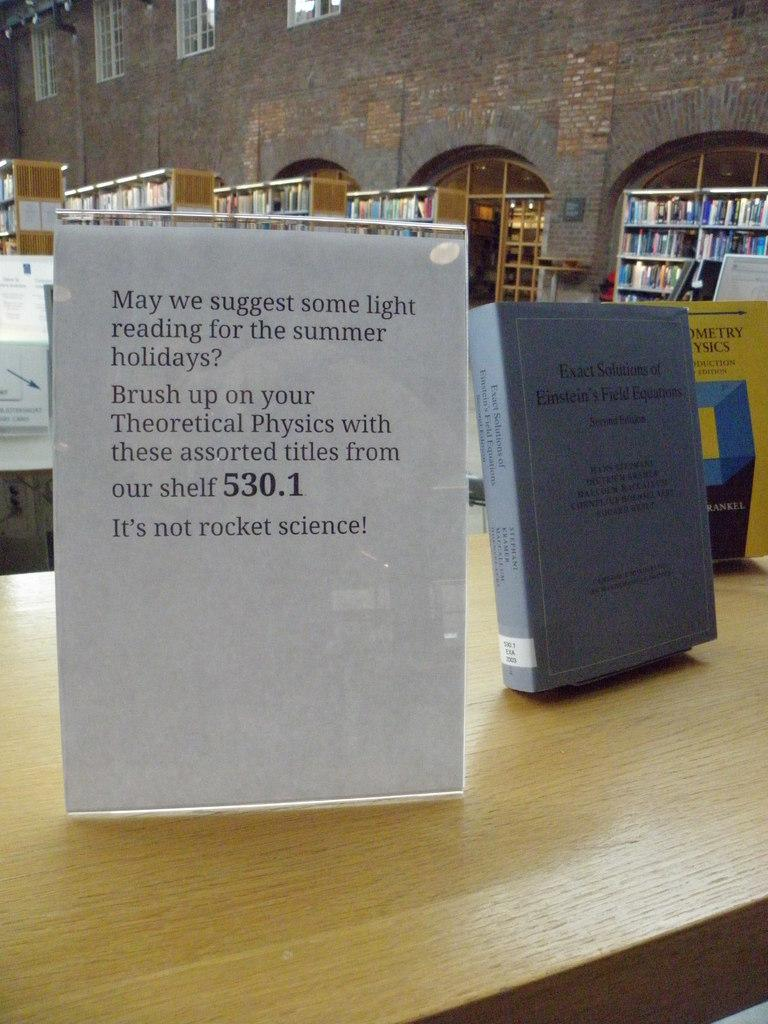book: (469, 307, 717, 691)
